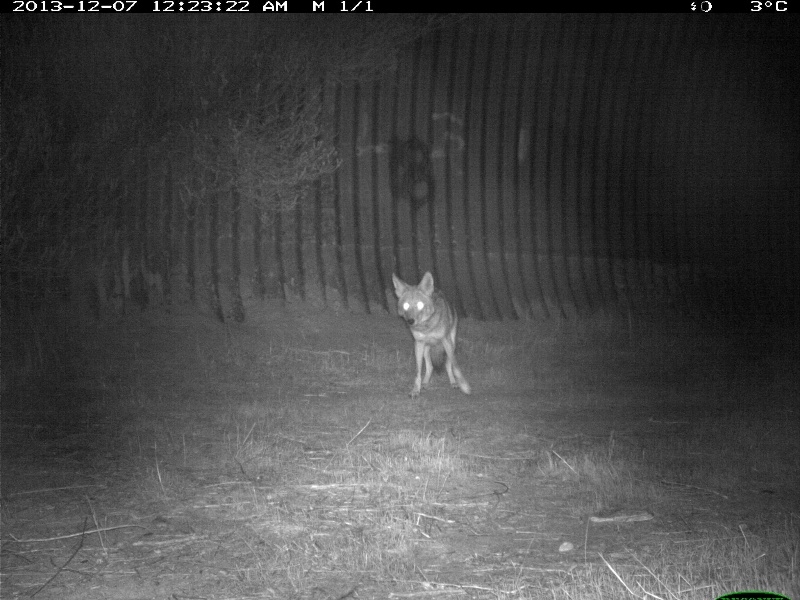coyote: (387, 268, 475, 401)
